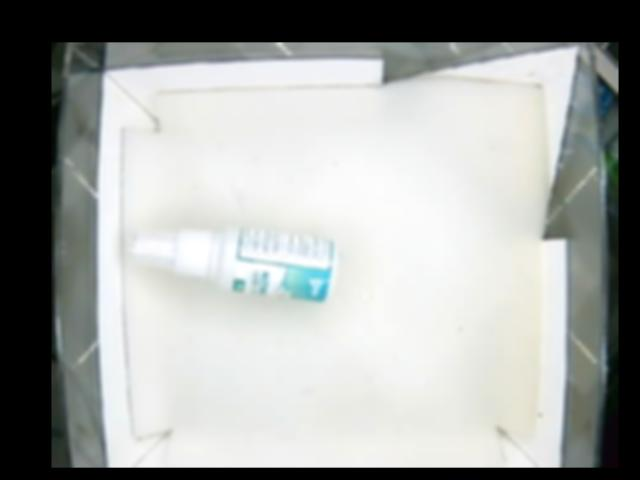Bottle: (129, 227, 334, 303)
